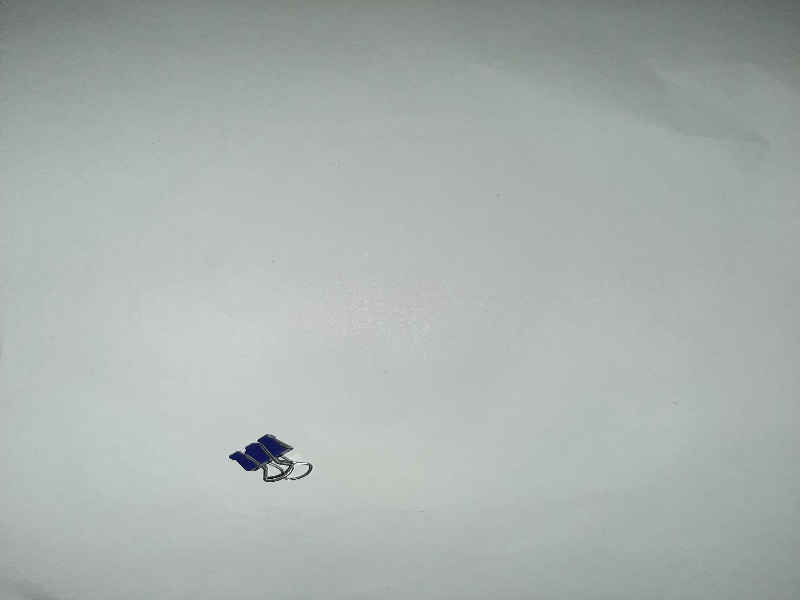Small Paperclip: (226, 424, 316, 491)
